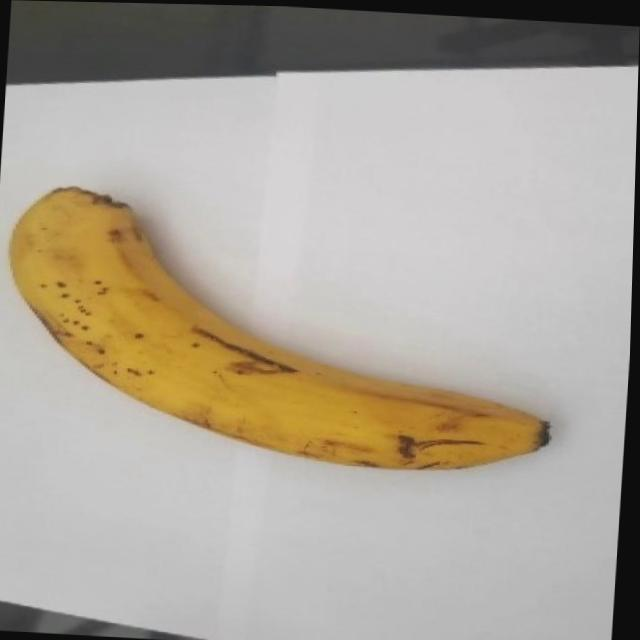Banana: (0, 181, 566, 475)
